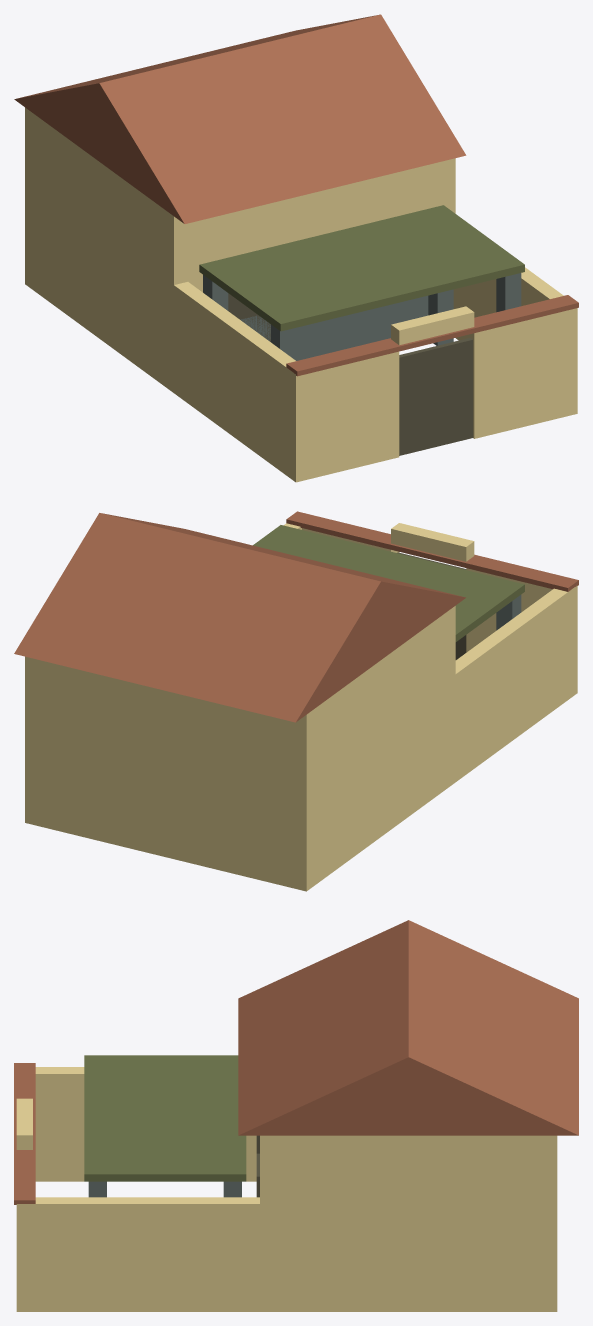
The model's file is SM_CasaPatio_v2_Parra_LOD1.fbx.
3 views of the same model, one above another, from view 1: azimuth 30°, elevation 25°; view 2: azimuth 150°, elevation 25°; view 3: azimuth 270°, elevation 25° (orthographic).
Parts seen in each view (by area): view 1: SM_pueblo_valenciano_v17_LOD1; view 2: SM_pueblo_valenciano_v17_LOD1; view 3: SM_pueblo_valenciano_v17_LOD1.
Boxes of the visible parts, bbox=[...] form: SM_pueblo_valenciano_v17_LOD1: bbox=[14, 14, 578, 482]; SM_pueblo_valenciano_v17_LOD1: bbox=[14, 511, 578, 891]; SM_pueblo_valenciano_v17_LOD1: bbox=[14, 920, 578, 1311].
Size of the model in its own units: 6 by 5.2 by 10.45.
